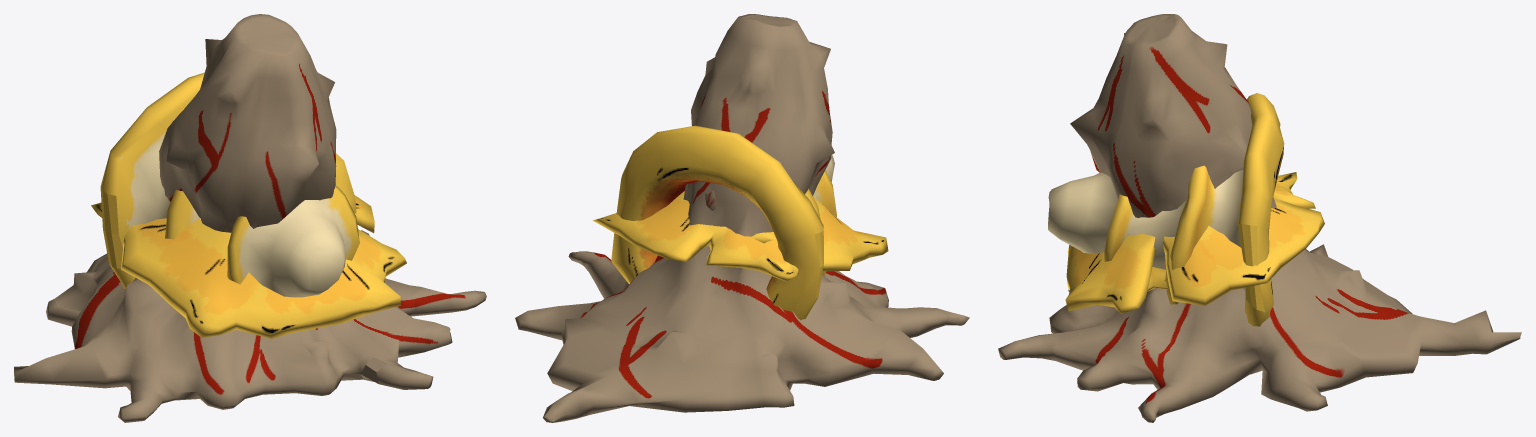
File: FlamethrowerParts.fbx
3 renders of one model, left to right at view 1: azimuth 30°, elevation 25°; view 2: azimuth 150°, elevation 25°; view 3: azimuth 270°, elevation 25°, orthographic. The views are drawn at different scales.
Parts seen in each view (by area): view 1: Spitter Body Retopo, Spitter Head Retopo, Bottom Neck Mush Retop; view 2: Spitter Body Retopo, Spitter Head Retopo, Bottom Neck Mush Retop; view 3: Spitter Body Retopo, Spitter Head Retopo, Bottom Neck Mush Retop.
Boxes of the visible parts, <box> form: Spitter Body Retopo: <box>14,14,486,422</box>; Spitter Head Retopo: <box>100,72,359,297</box>; Bottom Neck Mush Retop: <box>91,195,406,338</box>; Spitter Body Retopo: <box>515,14,969,422</box>; Spitter Head Retopo: <box>611,125,836,320</box>; Bottom Neck Mush Retop: <box>592,191,888,281</box>; Spitter Body Retopo: <box>998,14,1521,422</box>; Spitter Head Retopo: <box>1048,93,1284,326</box>; Bottom Neck Mush Retop: <box>1065,172,1324,314</box>.
Bounding box in the file's own units: 339 × 257 × 374.
